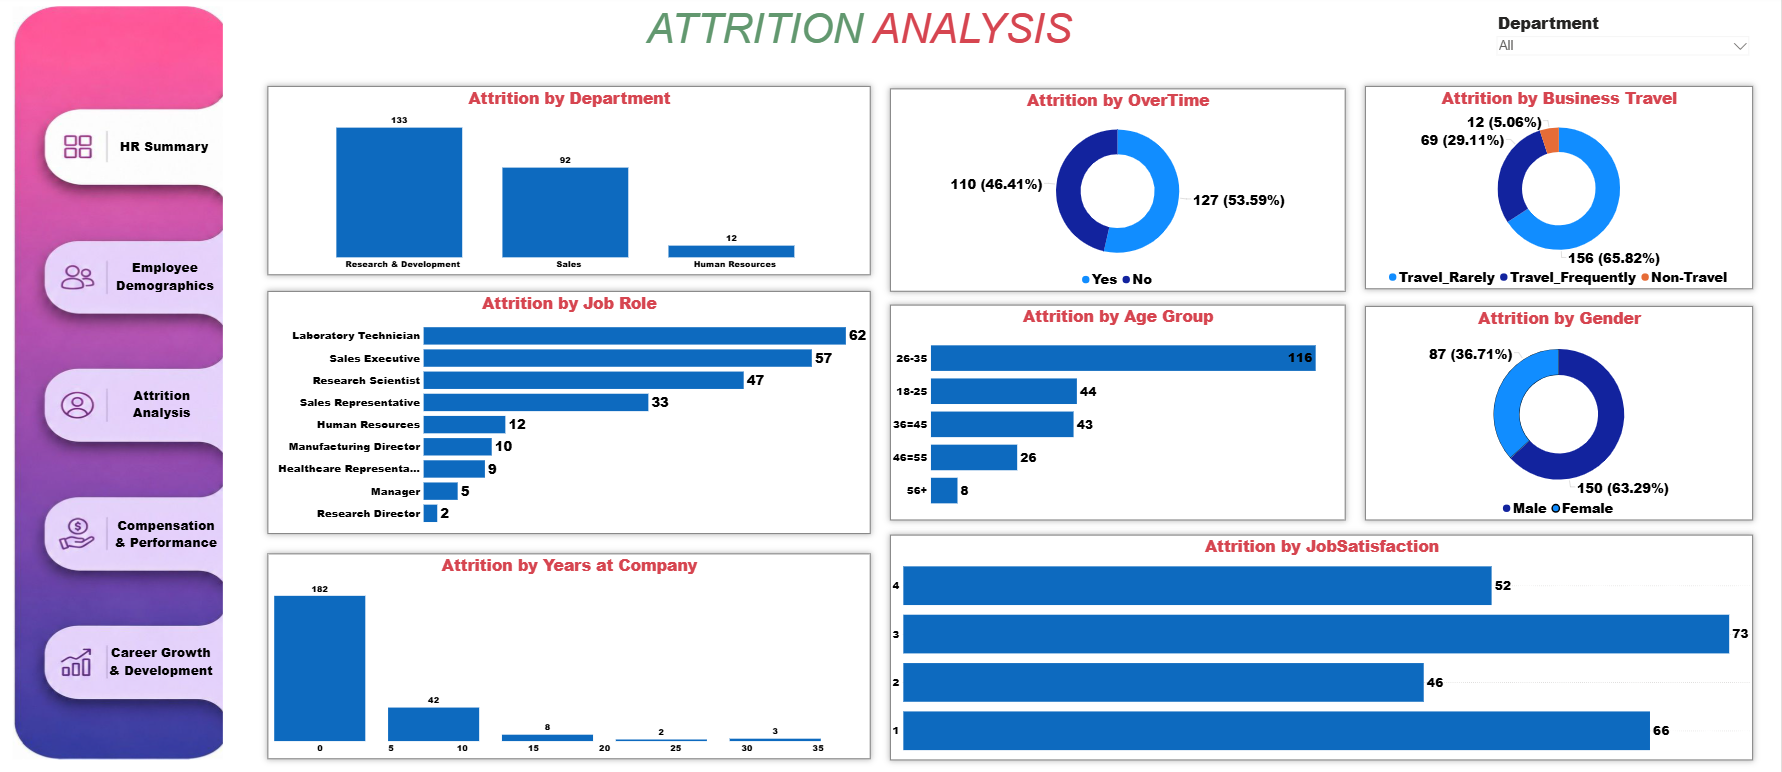

The dashboard page shown, as its layout file describes it:
{"tool":"powerbi","page":{"name":"Page 3","canvas":[4580,2000],"ordinal":2},"visuals":[{"type":"textbox","box":[1262.6,19.3,1895.5,138.1],"z":0},{"type":"image","box":[36.7,29.4,540,1935.9],"z":1000},{"type":"clusteredColumnChart","title":"Attrition by Department","fields":{"Category":["WA_Fn-UseC_-HR-Employee-Attrition.Department"],"Y":["WA_Fn-UseC_-HR-Employee-Attrition.Attrition Count"]},"box":[690.7,234.5,1548.5,485.1],"z":2000},{"type":"clusteredBarChart","title":"Attrition by Job Role","fields":{"Category":["WA_Fn-UseC_-HR-Employee-Attrition.JobRole"],"Y":["WA_Fn-UseC_-HR-Employee-Attrition.Attrition Count"]},"box":[690.7,761.4,1548.5,623.3],"z":3000},{"type":"donutChart","title":"Attrition by OverTime","fields":{"Y":["WA_Fn-UseC_-HR-Employee-Attrition.Attrition Count"],"Category":["WA_Fn-UseC_-HR-Employee-Attrition.OverTime"]},"box":[2290.7,241,1169.4,520.5],"z":4000},{"type":"clusteredBarChart","title":"Attrition by Age Group","fields":{"Category":["WA_Fn-UseC_-HR-Employee-Attrition.Age Range"],"Y":["WA_Fn-UseC_-HR-Employee-Attrition.Attrition Count"]},"box":[2290.7,796.7,1169.4,552.6],"z":5000},{"type":"donutChart","title":"Attrition by Business Travel","fields":{"Category":["WA_Fn-UseC_-HR-Employee-Attrition.BusinessTravel"],"Y":["WA_Fn-UseC_-HR-Employee-Attrition.Attrition Count"]},"box":[3511.5,234.5,995.9,520.5],"z":6000},{"type":"donutChart","title":"Attrition by Gender","fields":{"Category":["WA_Fn-UseC_-HR-Employee-Attrition.Gender"],"Y":["WA_Fn-UseC_-HR-Employee-Attrition.Attrition Count"]},"box":[3511.5,800,995.9,549.4],"z":7000},{"type":"clusteredBarChart","title":"Attrition by JobSatisfaction","fields":{"Category":["WA_Fn-UseC_-HR-Employee-Attrition.JobSatisfaction"],"Y":["WA_Fn-UseC_-HR-Employee-Attrition.Attrition Count"]},"box":[2290.7,1387.9,2216.8,578.3],"z":8000},{"type":"clusteredColumnChart","title":"Attrition by Years at Company","fields":{"Category":["WA_Fn-UseC_-HR-Employee-Attrition.YearsAtCompany (bins)"],"Y":["WA_Fn-UseC_-HR-Employee-Attrition.Attrition Count"]},"box":[690.7,1436.1,1548.5,526.9],"z":9000},{"type":"actionButton","box":[258.6,347.5,335.3,80.8],"z":10000},{"type":"actionButton","box":[258.6,662.6,339.4,121.2],"z":11000},{"type":"actionButton","box":[282.8,977.1,272,146.7],"z":12000},{"type":"actionButton","box":[282.8,1310,293.5,146.7],"z":13000},{"type":"actionButton","box":[269.9,1638.5,292.4,147.8],"z":14000},{"type":"slicer","fields":{"Values":["WA_Fn-UseC_-HR-Employee-Attrition.Department"]},"box":[3839.2,38.6,668.2,118.9],"z":15000}]}

Visuals, with their boxes in screenshot pixels (x1, y1, x2, y2), scaled from the page's 4580x2000 canvas onto the 1782x772 screenshot:
textbox: left=491, top=7, right=1229, bottom=61
image: left=14, top=11, right=224, bottom=759
"Attrition by Department" clusteredColumnChart: left=269, top=91, right=871, bottom=278
"Attrition by Job Role" clusteredBarChart: left=269, top=294, right=871, bottom=534
"Attrition by OverTime" donutChart: left=891, top=93, right=1346, bottom=294
"Attrition by Age Group" clusteredBarChart: left=891, top=308, right=1346, bottom=521
"Attrition by Business Travel" donutChart: left=1366, top=91, right=1754, bottom=291
"Attrition by Gender" donutChart: left=1366, top=309, right=1754, bottom=521
"Attrition by JobSatisfaction" clusteredBarChart: left=891, top=536, right=1754, bottom=759
"Attrition by Years at Company" clusteredColumnChart: left=269, top=554, right=871, bottom=758
actionButton: left=101, top=134, right=231, bottom=165
actionButton: left=101, top=256, right=233, bottom=303
actionButton: left=110, top=377, right=216, bottom=434
actionButton: left=110, top=506, right=224, bottom=562
actionButton: left=105, top=632, right=219, bottom=690
slicer - WA_Fn-UseC_-HR-Employee-Attrition.Department: left=1494, top=15, right=1754, bottom=61
